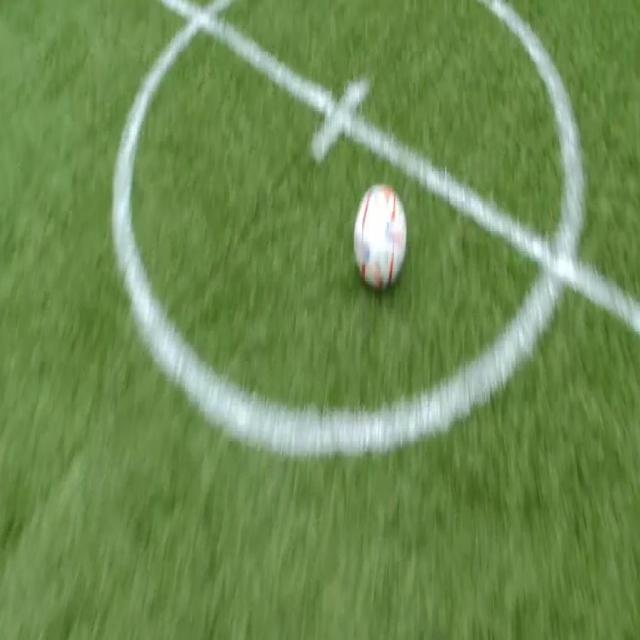ball: (354, 184, 406, 288)
